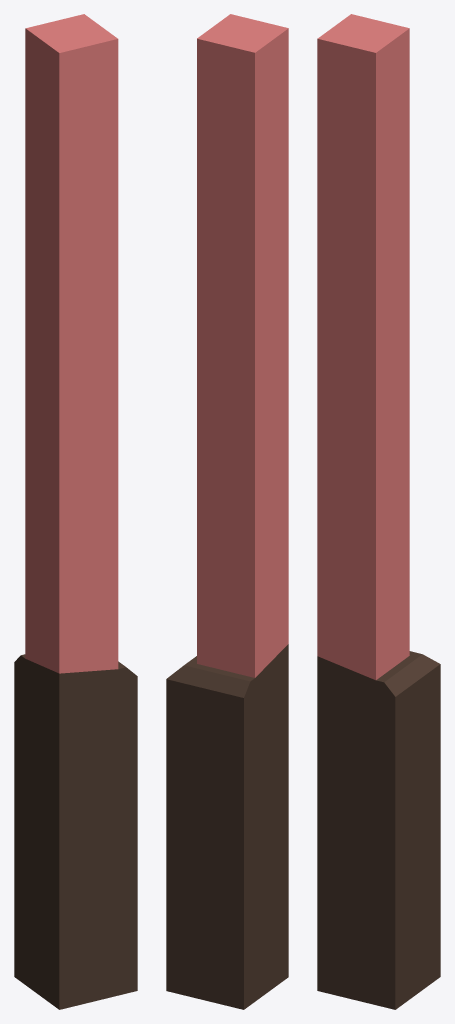
Rendered from corner.fbx.
The picture shows the model from 3 angles, left to right: view 1: azimuth 30°, elevation 25°; view 2: azimuth 150°, elevation 25°; view 3: azimuth 330°, elevation 25°; orthographic projection.
Visible parts, largest first — view 1: Cube; view 2: Cube; view 3: Cube.
Boxes of the visible parts, x1,y1,x2,y2 form: Cube: (14, 14, 137, 1009); Cube: (166, 14, 288, 1009); Cube: (317, 14, 440, 1009).
Size of the model in its own units: 60 by 700 by 60.
